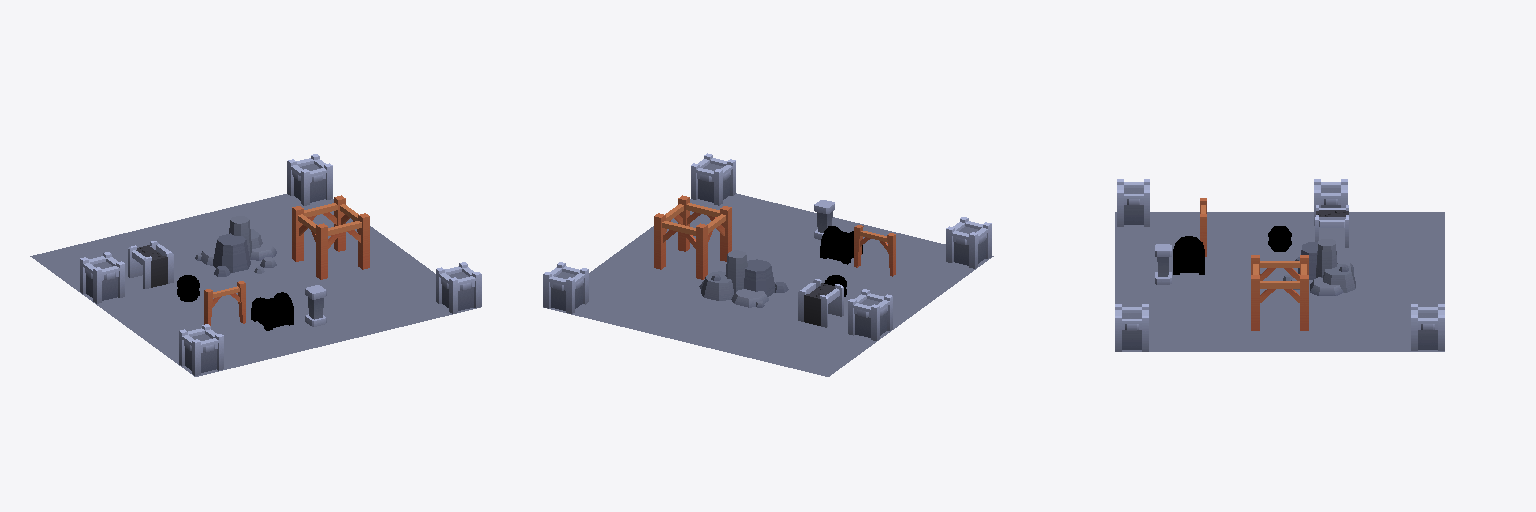
3 views of the same model, side by side, from view 1: azimuth 30°, elevation 25°; view 2: azimuth 150°, elevation 25°; view 3: azimuth 270°, elevation 25° (orthographic).
Parts seen in each view (by area): view 1: floor, wood-structure, stones, wall.003, wall.002, wall, wall.001, wall-opening, chest, wood-support, column, barrel; view 2: floor, wood-structure, stones, wall.003, wall, wall.002, wall.001, wall-opening, chest, wood-support, column; view 3: floor, wood-structure, stones, wall.003, wall.002, wall, chest, wall-opening, wall.001, column.
Part boxes in pixels (x1,y1,x2,y2): floor: (30, 194, 480, 376); wood-structure: (292, 195, 369, 279); stones: (195, 216, 276, 276); wall.003: (436, 262, 481, 313); wall.002: (287, 154, 332, 205); wall: (179, 324, 223, 375); wall.001: (80, 252, 124, 303); wall-opening: (128, 241, 173, 288); chest: (251, 292, 293, 330); wood-support: (204, 281, 245, 325); column: (305, 285, 326, 326); barrel: (177, 275, 199, 301); floor: (543, 193, 993, 376); wood-structure: (654, 195, 731, 279); stones: (699, 250, 788, 307); wall.003: (691, 153, 735, 205); wall: (946, 217, 991, 268); wall.002: (543, 262, 588, 313); wall.001: (848, 289, 892, 340); wall-opening: (798, 279, 843, 327); chest: (820, 226, 862, 264); wood-support: (854, 225, 895, 276); column: (814, 200, 834, 239); floor: (1115, 212, 1444, 351); wood-structure: (1251, 255, 1308, 330); stones: (1283, 239, 1355, 295); wall.003: (1115, 304, 1148, 351); wall.002: (1411, 304, 1444, 350); wall: (1117, 179, 1149, 226); chest: (1173, 236, 1204, 274); wall-opening: (1315, 205, 1348, 247); wall.001: (1314, 179, 1347, 225); column: (1155, 244, 1171, 284).
Bounding box in the file's own units: 9.91 × 1.71 × 9.91.
Materials: 9 (1 with a texture image).